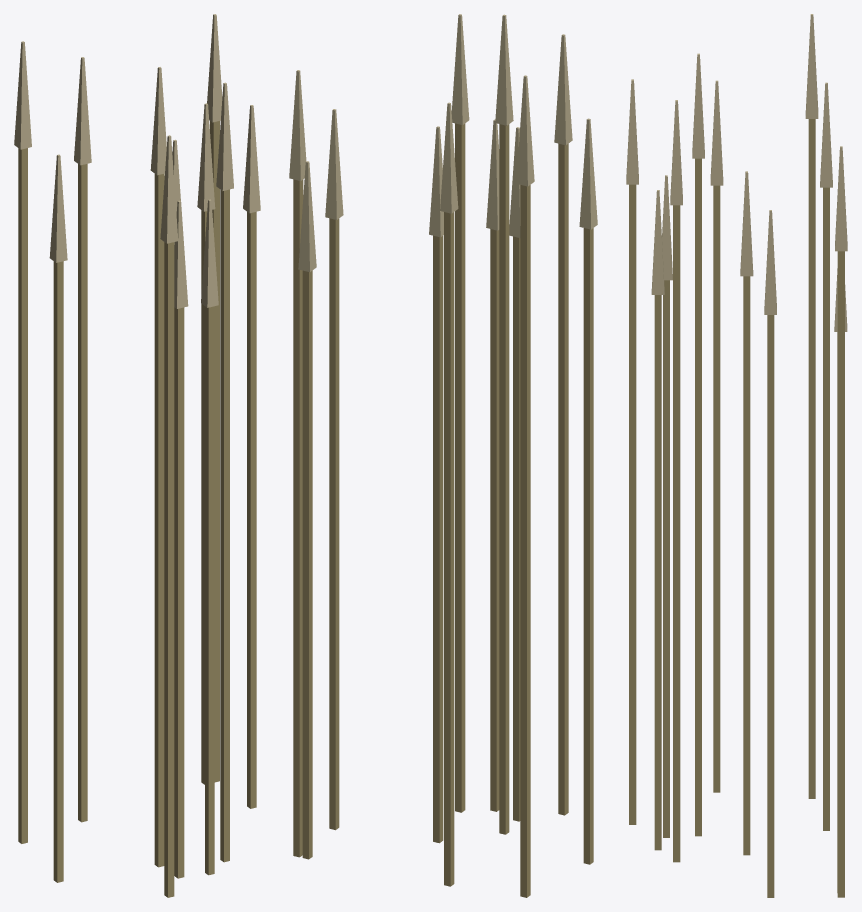
The model's file is f20-reed-stand.glb.
3 renders of one model, left to right at view 1: azimuth 30°, elevation 25°; view 2: azimuth 150°, elevation 25°; view 3: azimuth 270°, elevation 25°, orthographic. The views are drawn at different scales.
Parts seen in each view (by area): view 1: part0, part1; view 2: part0, part1; view 3: part0, part1.
Part boxes in pixels (box(x1,y1,x2,y2)): part0: box(18, 121, 256, 897); part1: box(14, 14, 260, 308); part0: box(293, 123, 593, 897); part1: box(289, 14, 597, 272); part0: box(629, 119, 844, 897); part1: box(626, 14, 847, 331).
Size of the model in its own units: 817 by 2692 by 690.
